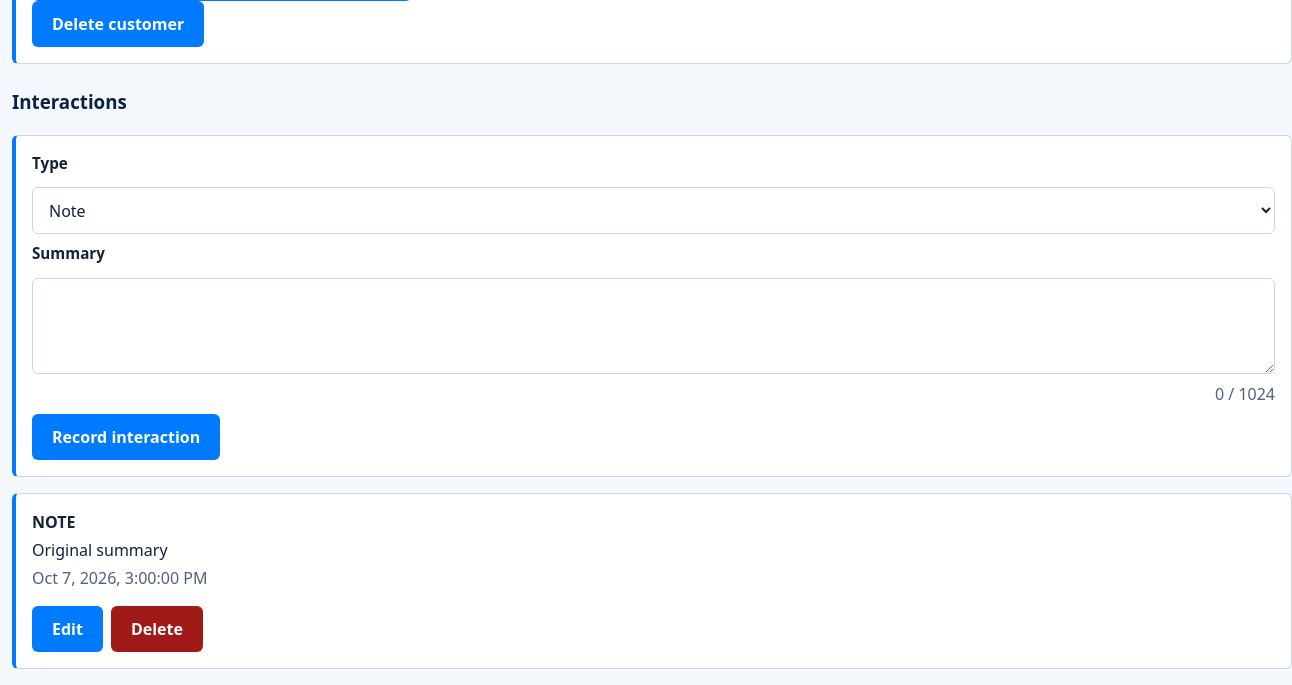
Test case: CustomerProfilePageComponent › cancels editing without a request
This screenshot has width=1292, height=685.
(page scrolled)
Click the button with test id "interaction-edit": (67, 629) [32,606,103,652]
(page scrolled)
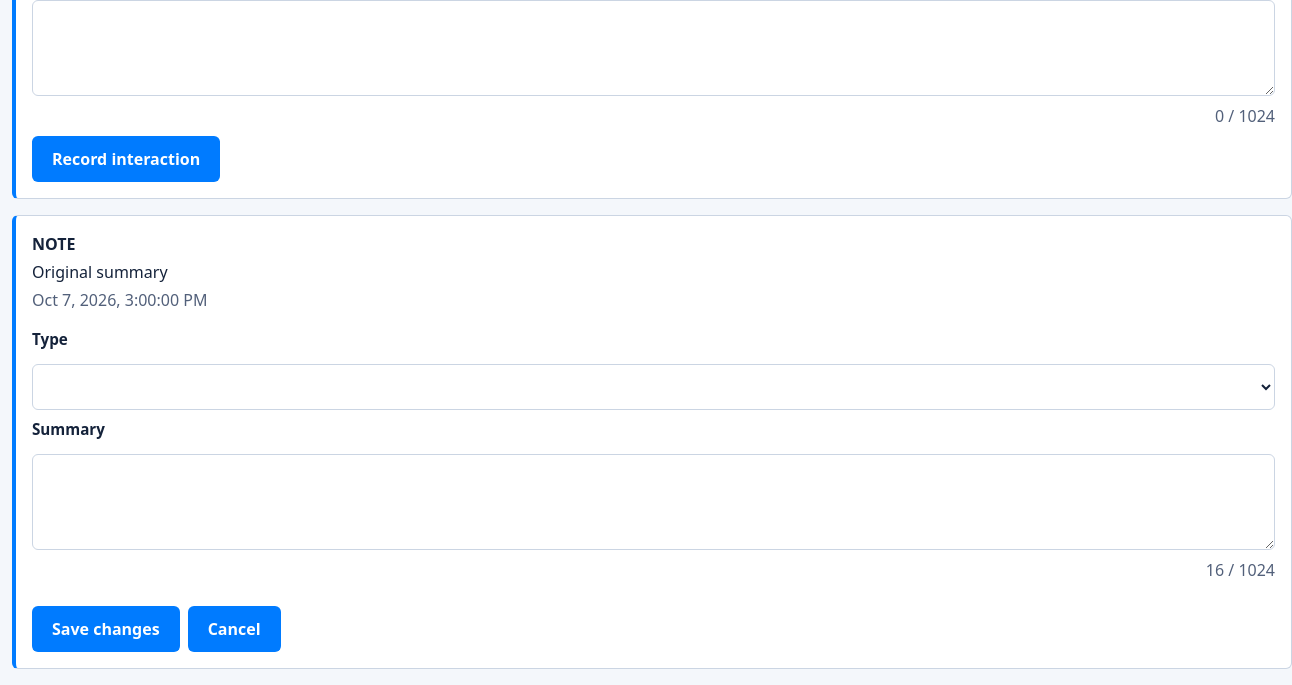
Click the button "Cancel": (234, 629) [188,606,281,652]
(page scrolled)
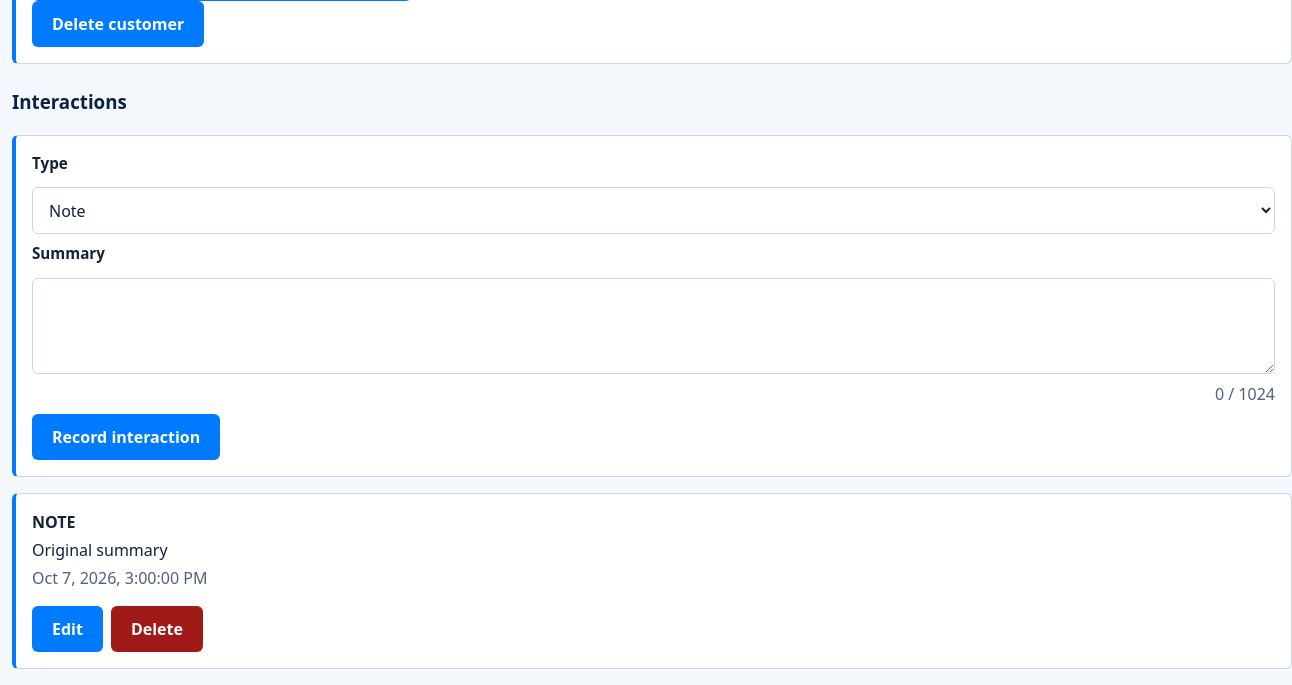
Expected: the form with test id "interaction-edit-form" is gone
